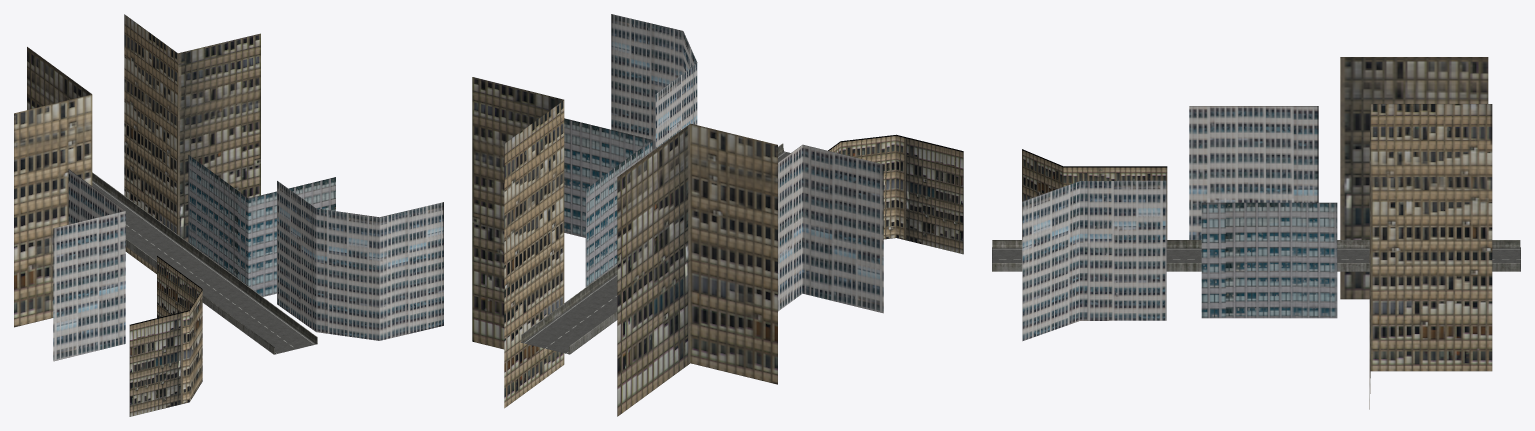
Rendered from Enviroment_assets_1.1.fbx.
3 renders of one model, left to right at view 1: azimuth 30°, elevation 25°; view 2: azimuth 150°, elevation 25°; view 3: azimuth 270°, elevation 25°, orthographic. The views are drawn at different scales.
Visible parts, largest first — view 1: Cube.019, Road_plane, Plane.001, Plane.002; view 2: Cube.019, Road_plane, Plane.001; view 3: Cube.019, Road_plane, Plane.001, Plane.002.
Boxes of the visible parts, x1=… form: Cube.019: x1=14, y1=14, x2=443, y2=416; Road_plane: x1=92, y1=180, x2=317, y2=354; Plane.001: x1=92, y1=172, x2=317, y2=344; Plane.002: x1=125, y1=239, x2=275, y2=354; Cube.019: x1=472, y1=14, x2=963, y2=416; Road_plane: x1=520, y1=151, x2=790, y2=354; Plane.001: x1=521, y1=143, x2=783, y2=342; Cube.019: x1=1022, y1=57, x2=1492, y2=409; Road_plane: x1=992, y1=247, x2=1520, y2=271; Plane.001: x1=992, y1=263, x2=1520, y2=271; Plane.002: x1=992, y1=240, x2=1520, y2=248.
Bounding box in the file's own units: 23461 × 16734 × 29994.
